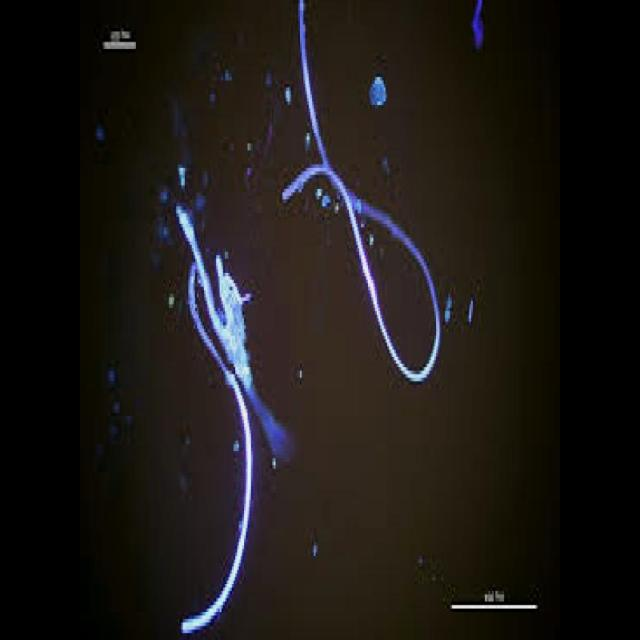Fibre: (281, 0, 444, 390), (165, 155, 296, 640)
